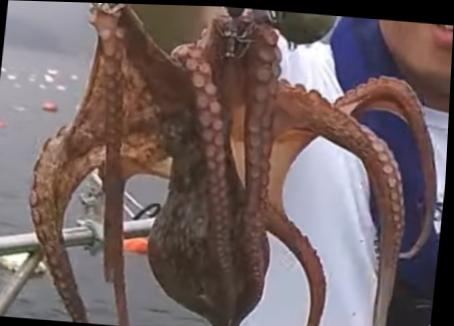Cephalopod: (30, 2, 439, 326)
